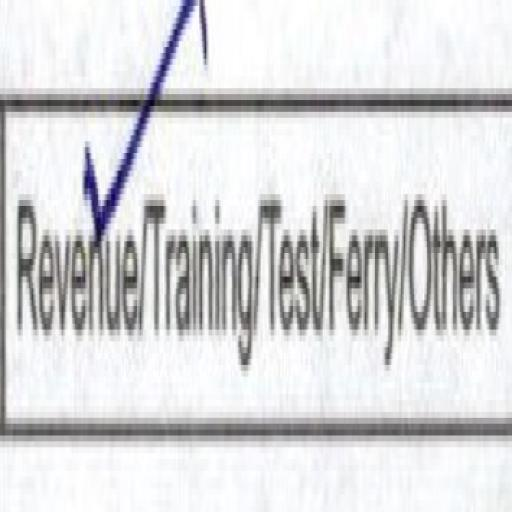check: (2, 28, 145, 452)
